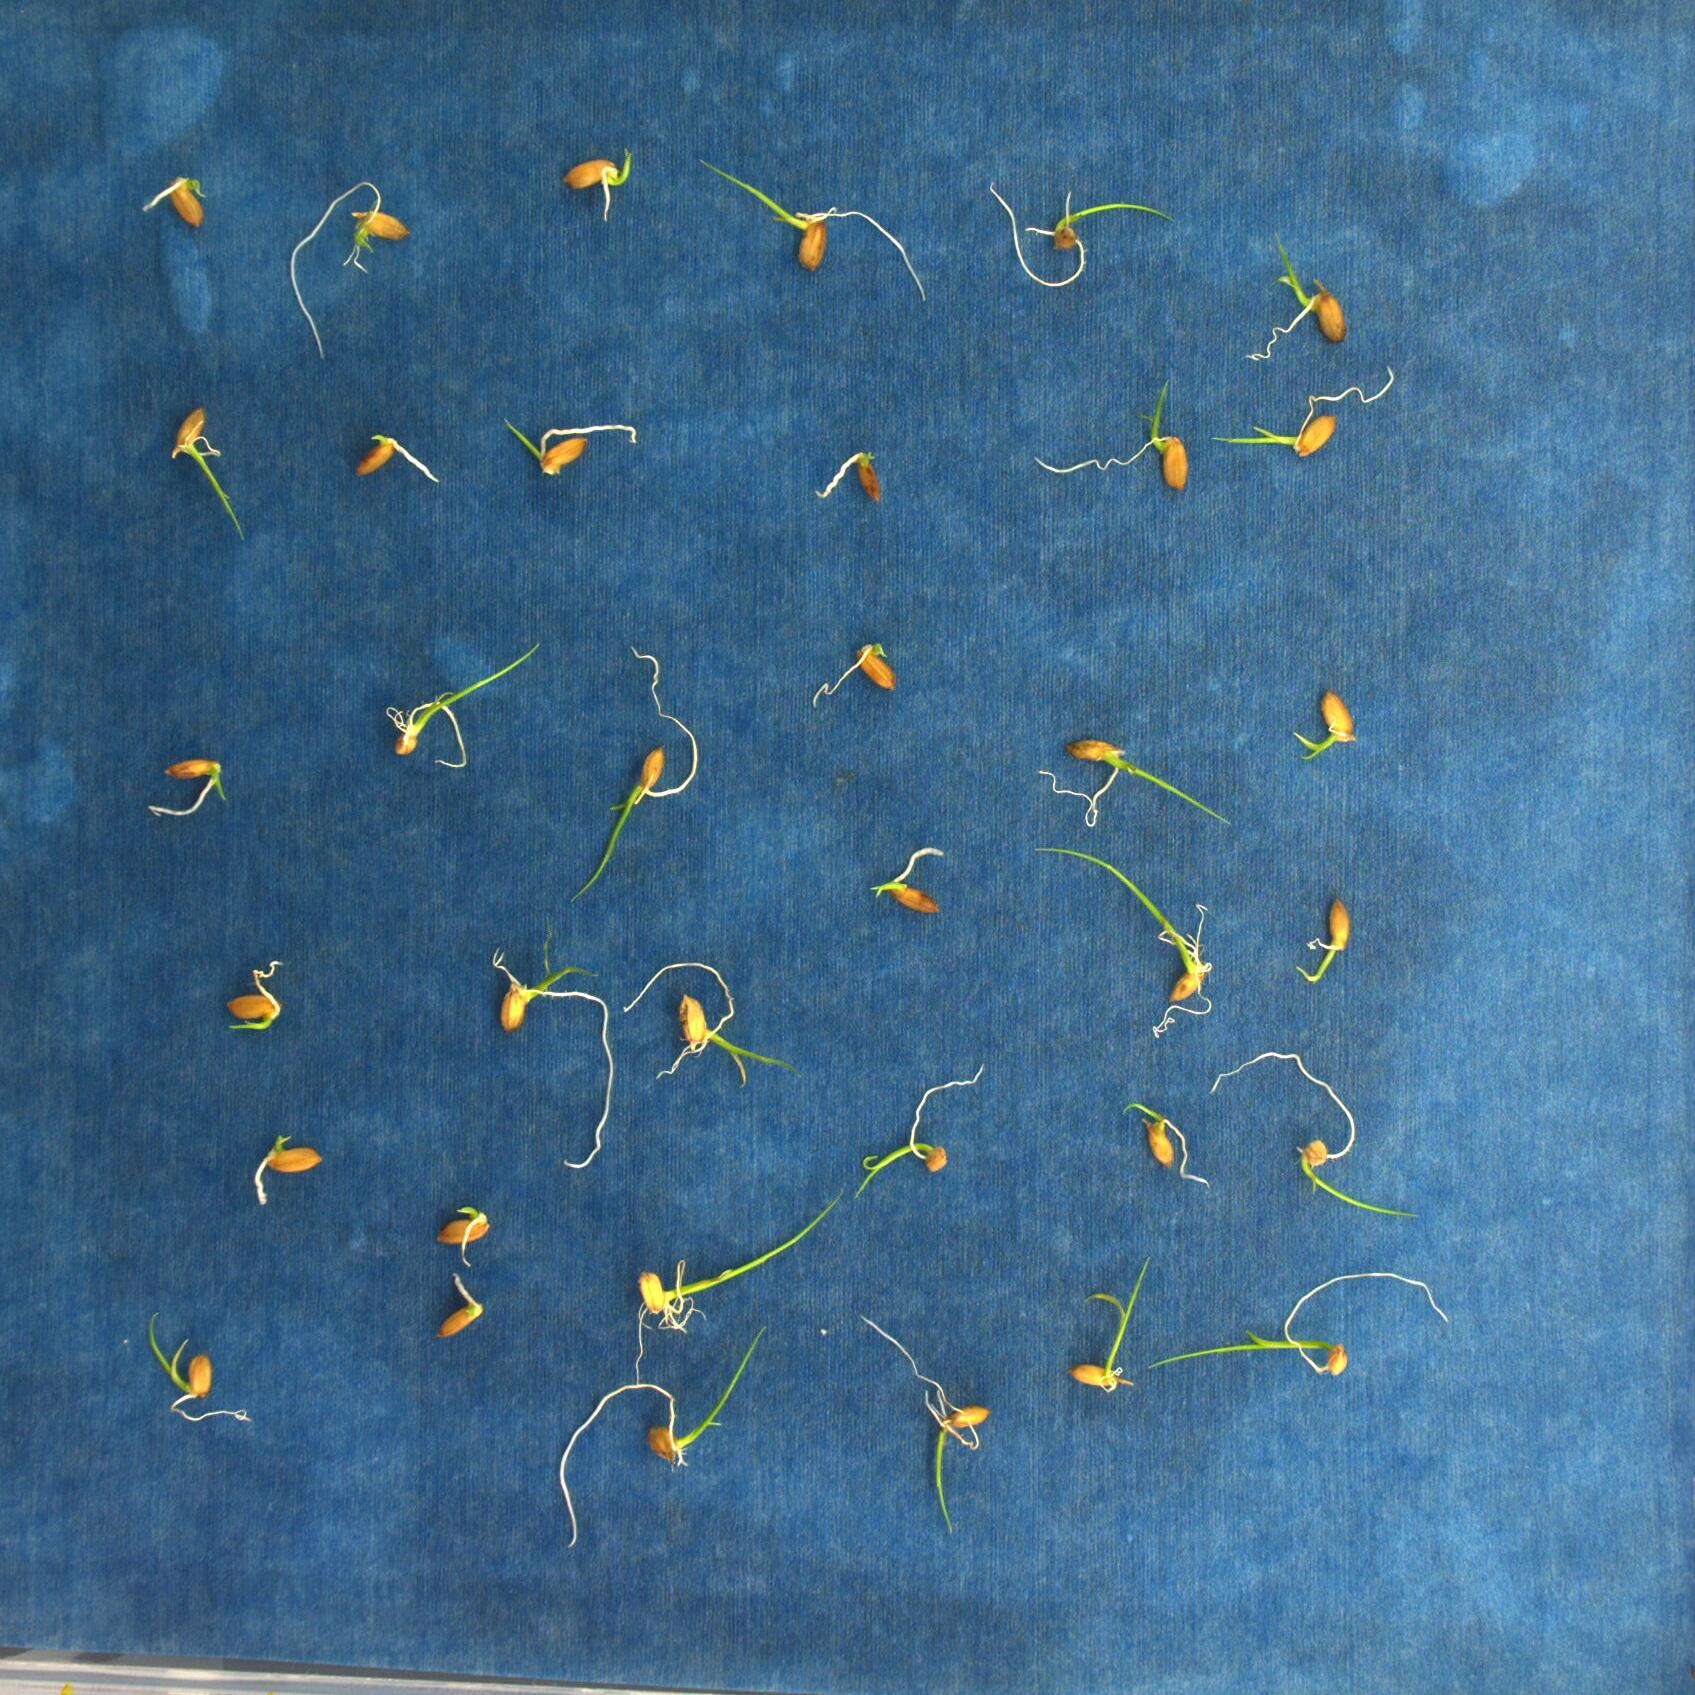not sprout: (251, 1125, 324, 1206), (813, 636, 893, 702), (349, 430, 438, 487), (807, 445, 885, 504), (438, 1274, 483, 1340)
sprout: (556, 1321, 773, 1543), (630, 1191, 844, 1378), (1212, 1048, 1430, 1218), (703, 154, 930, 301), (1038, 844, 1215, 1031), (579, 644, 705, 899), (494, 917, 618, 1173), (1150, 1271, 1453, 1374), (855, 1318, 987, 1540), (289, 180, 422, 376), (385, 646, 551, 781), (626, 959, 799, 1088), (1035, 733, 1242, 830), (1034, 377, 1189, 504), (990, 183, 1172, 292), (851, 1063, 979, 1197), (1212, 363, 1397, 453), (1239, 230, 1346, 365), (151, 1313, 255, 1433), (1063, 1257, 1149, 1392), (172, 402, 247, 548), (1118, 1097, 1218, 1194), (500, 411, 640, 480), (147, 756, 233, 823), (872, 844, 944, 917), (1291, 688, 1357, 765), (563, 152, 636, 217), (1295, 896, 1347, 983), (227, 955, 282, 1032), (438, 1205, 490, 1271), (141, 172, 210, 220)
